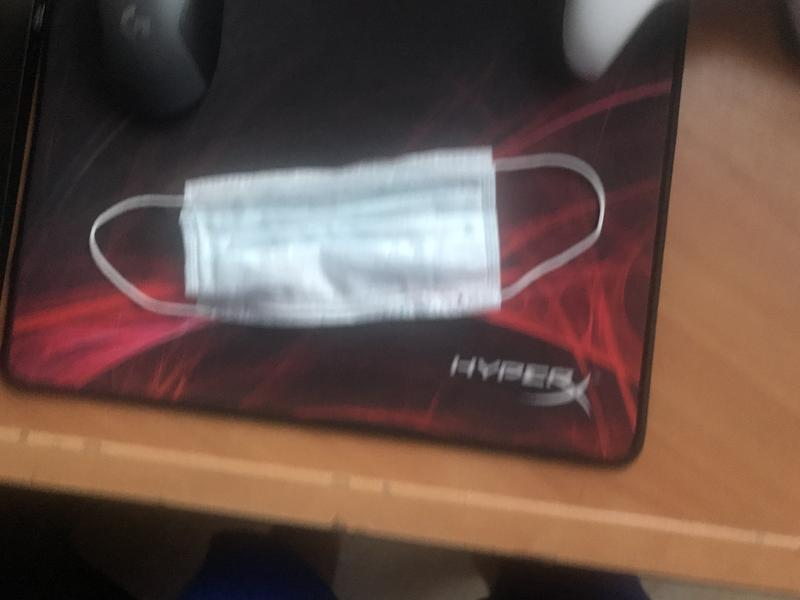medical_mask: (88, 150, 606, 322)
